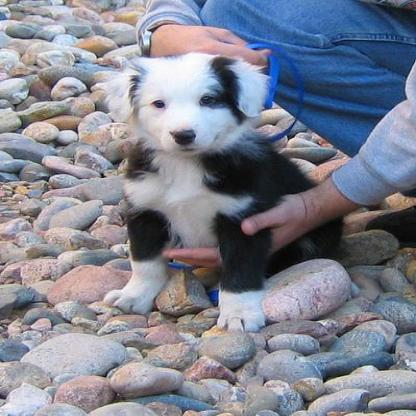collie: (103, 51, 339, 328)
